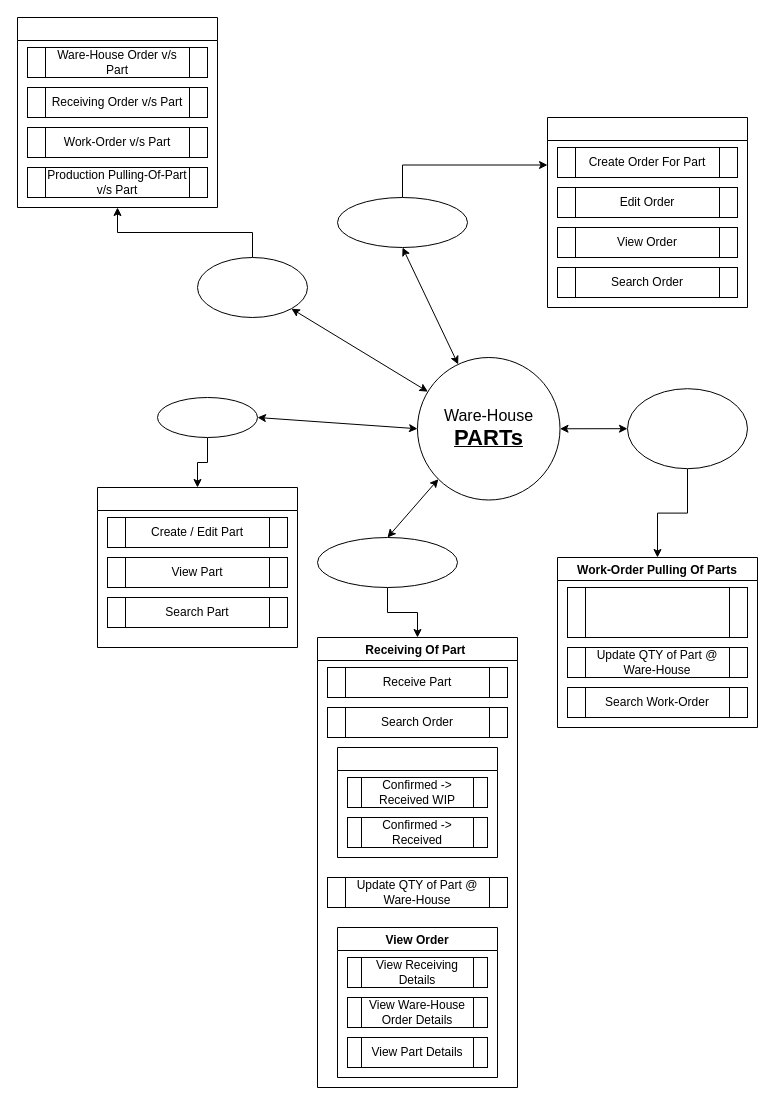
Some shapes in this 775 by 1105 pixel diagram are drawn without their labels. The shapes that lost their labels are listed below. From the top down, each one's box as (x1, y1, x2, y2) in pixels, then its label:
(16, 16, 218, 208): Tracking
(336, 196, 468, 248): Ware-House
(546, 116, 748, 308): Ordering Of Part
(196, 256, 308, 318): Part Tracking
(156, 396, 258, 438): Engineering
(626, 388, 748, 469): Work-Order / Production
(96, 486, 298, 648): New Part
(316, 536, 458, 588): Receiving
(566, 586, 748, 638): Work-Order Pull Parts in either Fully Or Partially QTY
(336, 746, 498, 858): Update Order Status
